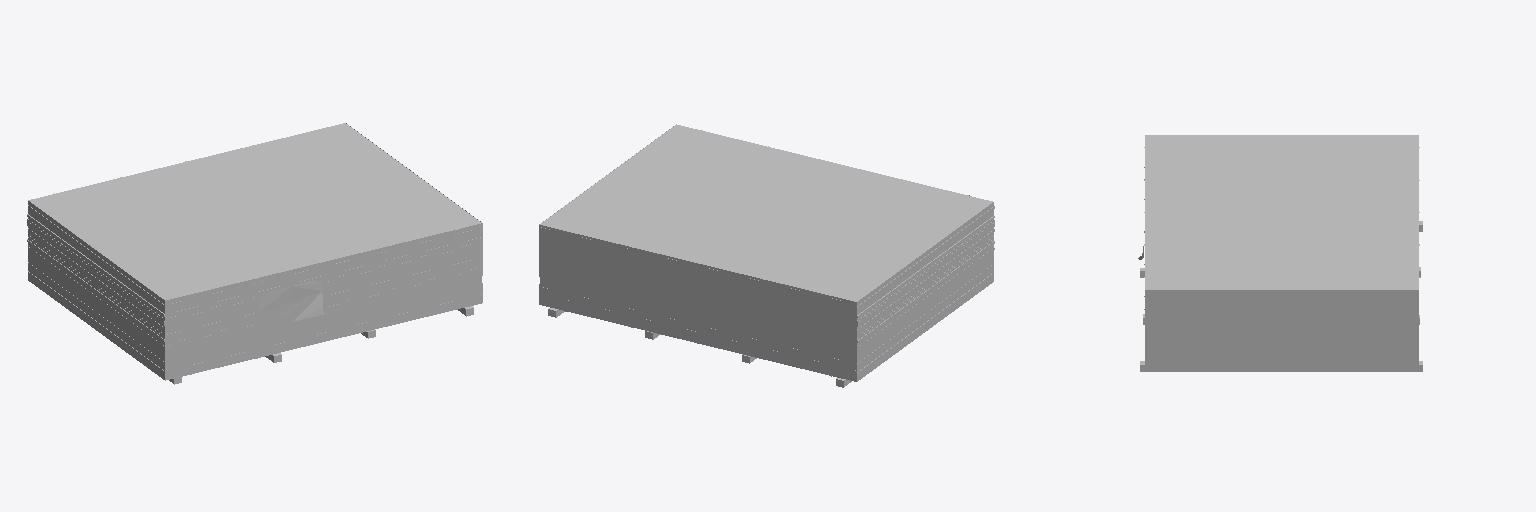
File: PalletPlywoodNew_GameReady_LODs.obj
3 views of the same model, side by side, from view 1: azimuth 30°, elevation 25°; view 2: azimuth 150°, elevation 25°; view 3: azimuth 270°, elevation 25° (orthographic).
Parts seen in each view (by area): view 1: PalletPlywoodNew_LOD0, PalletPlywoodNew_LOD2, PalletPlywoodNew_LOD1; view 2: PalletPlywoodNew_LOD0, PalletPlywoodNew_LOD2, PalletPlywoodNew_LOD1; view 3: PalletPlywoodNew_LOD0, PalletPlywoodNew_LOD2.
Part boxes in pixels (x1,y1,x2,y2): PalletPlywoodNew_LOD0: (27,123,482,384); PalletPlywoodNew_LOD2: (28,123,482,380); PalletPlywoodNew_LOD1: (37,134,457,374); PalletPlywoodNew_LOD0: (539,124,994,387); PalletPlywoodNew_LOD2: (539,126,993,381); PalletPlywoodNew_LOD1: (564,130,993,376); PalletPlywoodNew_LOD0: (1138,135,1422,371); PalletPlywoodNew_LOD2: (1144,290,1418,363).
Size of the model in its own units: 2.01 by 0.5242 by 1.57.